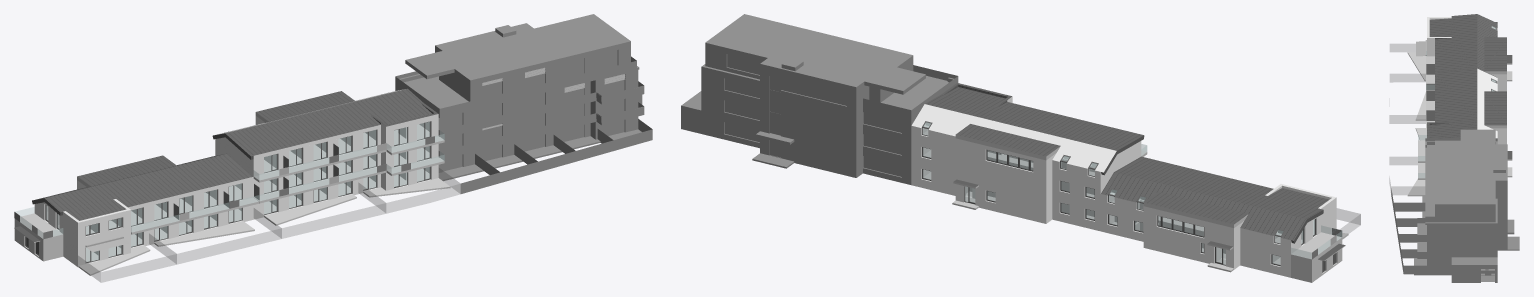
The model's file is ivancice.glb.
3 views of the same model, side by side, from view 1: azimuth 30°, elevation 25°; view 2: azimuth 150°, elevation 25°; view 3: azimuth 270°, elevation 25° (orthographic). The views are drawn at different scales.
Visible parts, largest first — view 1: ivancice_architecture; view 2: ivancice_architecture; view 3: ivancice_architecture.
Boxes of the visible parts, x1,y1,x2,y2 form: ivancice_architecture: (14,14,652,282); ivancice_architecture: (681,14,1360,282); ivancice_architecture: (1389,14,1519,282).
Bounding box in the file's own units: 88.02 × 12.5 × 20.23.
10 materials, 1 textured.
